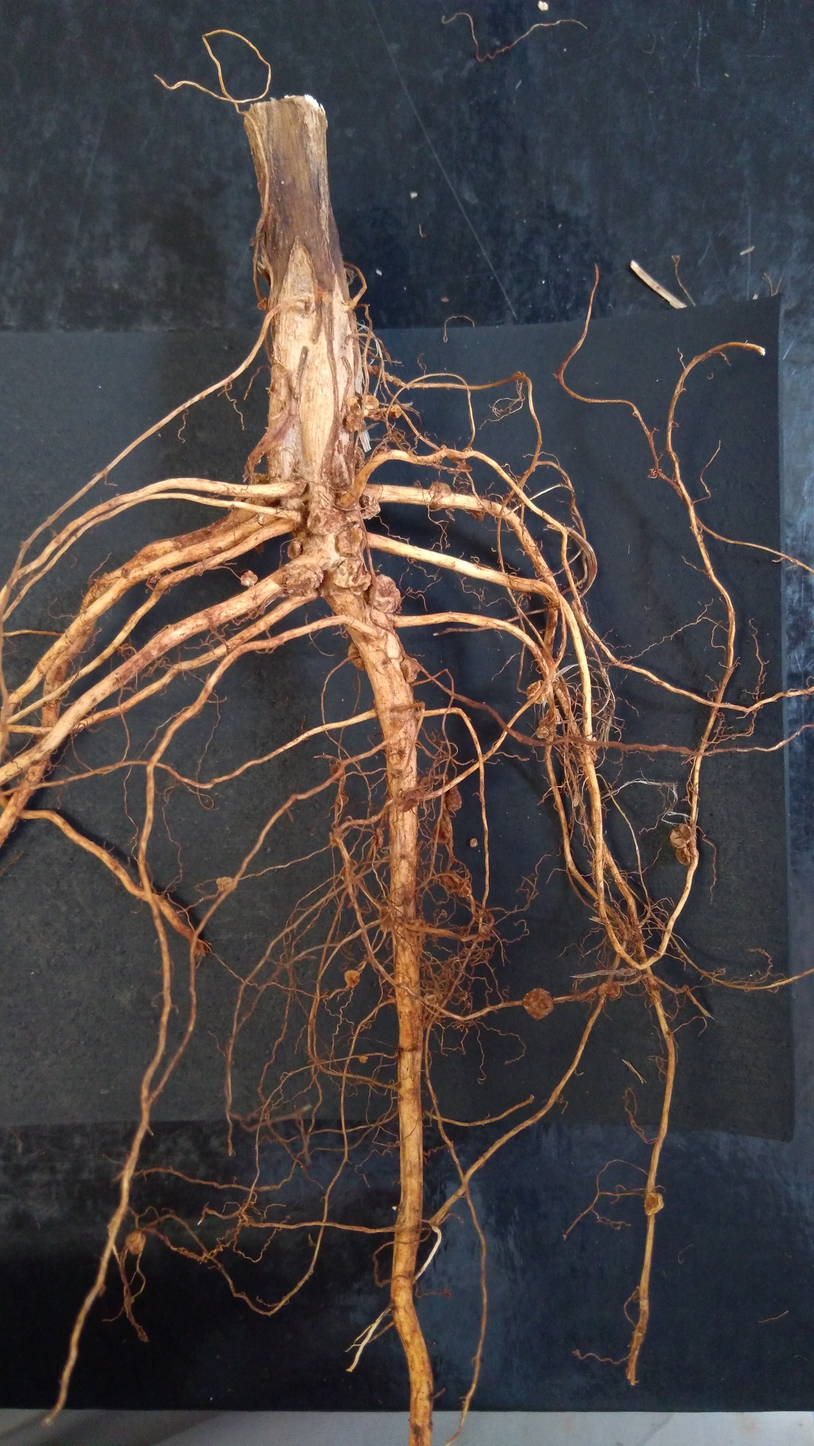nodule: (329, 557, 373, 598), (305, 504, 352, 537), (284, 562, 325, 598), (369, 573, 404, 614), (521, 987, 558, 1022), (334, 524, 370, 558), (640, 1190, 669, 1222), (356, 489, 383, 522), (667, 822, 695, 852), (429, 817, 455, 848), (123, 1226, 147, 1258), (400, 654, 423, 685), (345, 641, 367, 673), (524, 678, 548, 707), (445, 780, 464, 815), (284, 538, 305, 563), (441, 868, 461, 894), (673, 845, 695, 868), (342, 968, 364, 990), (367, 826, 386, 851), (343, 411, 363, 434), (239, 566, 259, 589), (215, 875, 237, 893), (429, 481, 454, 496), (606, 979, 622, 1002), (360, 393, 380, 410), (456, 878, 473, 898), (534, 724, 551, 741), (388, 403, 404, 421), (256, 296, 271, 312), (335, 789, 349, 806), (466, 835, 481, 850), (329, 762, 344, 777), (344, 395, 360, 407), (359, 1052, 369, 1064), (411, 479, 422, 488), (372, 365, 380, 376), (393, 377, 402, 386), (383, 371, 390, 381)
